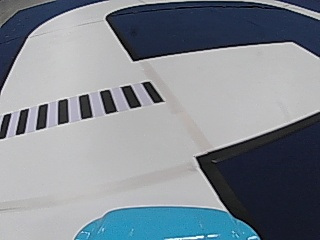CrossWalk: (3, 80, 164, 134)
